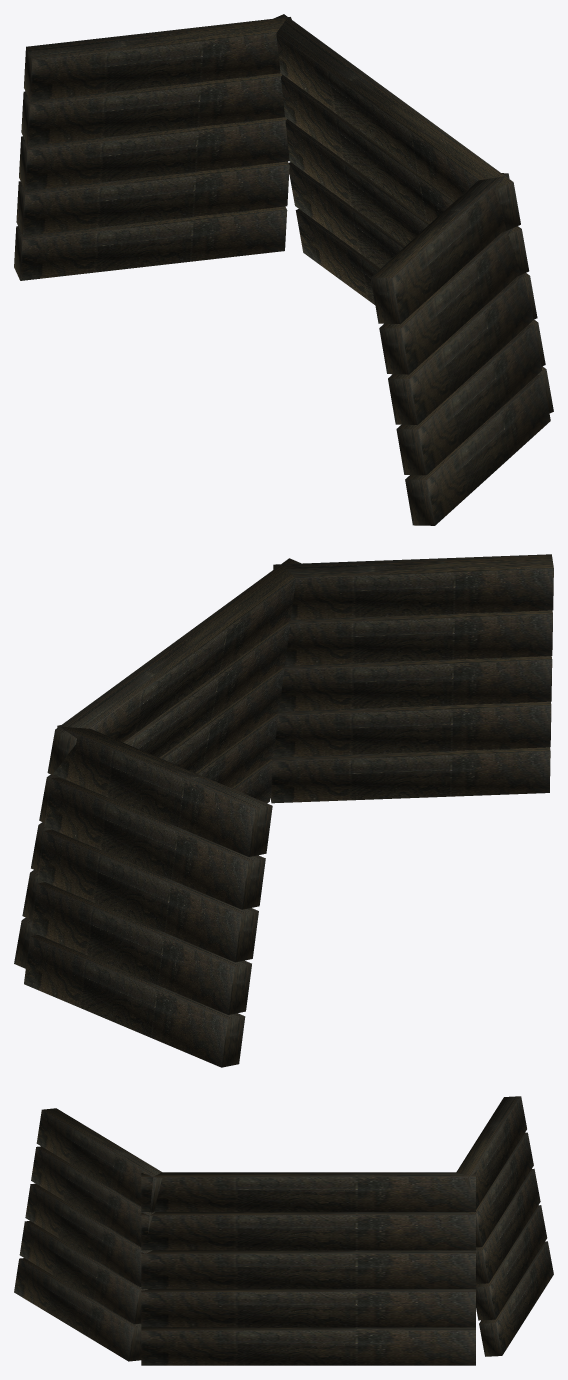
Rendered from WoodenBarrierPartTest12.obj.
The picture shows the model from 3 angles, top to bottom: view 1: azimuth 30°, elevation 25°; view 2: azimuth 150°, elevation 25°; view 3: azimuth 270°, elevation 25°; orthographic projection. The views are drawn at different scales.
Visible parts, largest first — view 1: Box003; view 2: Box003; view 3: Box003.
Part boxes in pixels (x1,y1,x2,y2): Box003: (14, 14, 553, 525); Box003: (14, 554, 553, 1067); Box003: (14, 1096, 553, 1365).
Size of the model in its own units: 75.63 by 64.45 by 178.
